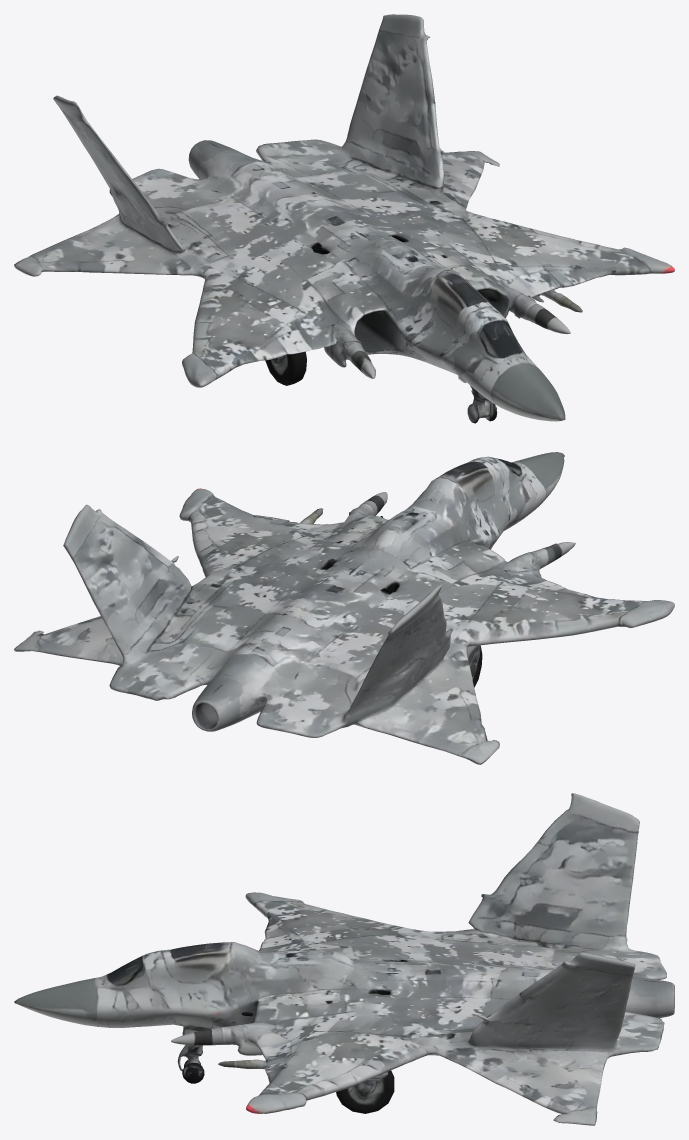
File: jet.glb
The picture shows the model from 3 angles, top to bottom: view 1: azimuth 30°, elevation 25°; view 2: azimuth 150°, elevation 25°; view 3: azimuth 270°, elevation 25°; orthographic projection. The views are drawn at different scales.
Visible parts, largest first — view 1: model; view 2: model; view 3: model.
Boxes of the visible parts, bbox=[...] form: model: bbox=[14, 14, 674, 423]; model: bbox=[14, 452, 674, 764]; model: bbox=[14, 793, 674, 1125].
Bounding box in the file's own units: 1.45 × 0.6345 × 1.89.
Materials: 1 (1 with a texture image).
